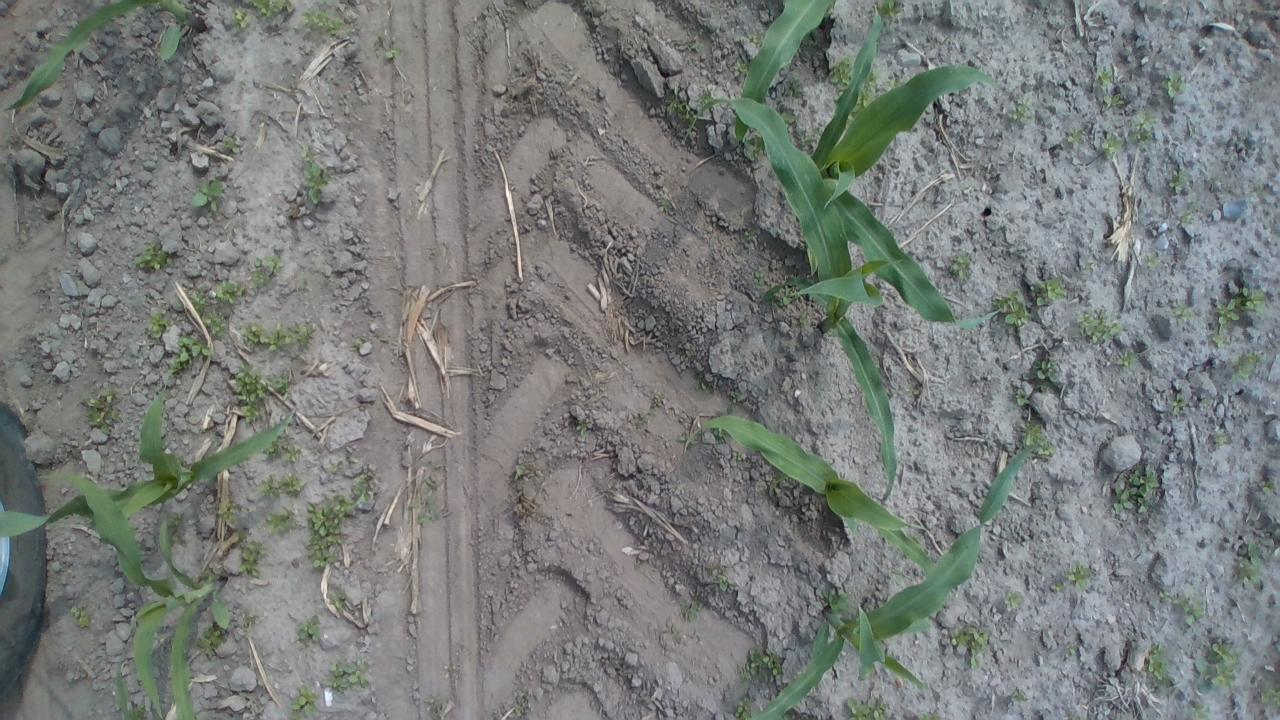Maize: (698, 93, 896, 507), (756, 449, 1026, 720), (812, 3, 1001, 336), (40, 466, 228, 719), (0, 380, 293, 540), (684, 414, 937, 576), (2, 0, 205, 111), (734, 0, 835, 146)
Weeds: (306, 492, 354, 570), (1210, 286, 1266, 348), (240, 320, 315, 352), (233, 361, 271, 424), (1072, 304, 1126, 344), (84, 382, 125, 434), (1113, 468, 1158, 514), (1195, 642, 1238, 689), (168, 334, 212, 378), (302, 142, 332, 206), (1160, 588, 1206, 626), (736, 648, 784, 684), (950, 624, 988, 668), (991, 288, 1030, 330), (666, 87, 698, 136), (322, 660, 370, 692), (255, 474, 304, 503), (301, 8, 351, 36), (1021, 420, 1055, 459), (190, 176, 226, 212), (132, 241, 173, 272), (415, 478, 440, 528), (238, 530, 264, 578), (830, 55, 854, 105), (1029, 278, 1070, 306), (1144, 642, 1170, 686), (260, 435, 300, 463), (1032, 356, 1062, 393), (288, 685, 319, 720), (1231, 350, 1264, 382), (846, 694, 886, 720), (250, 256, 282, 288), (1238, 543, 1262, 585), (243, 0, 296, 18), (1130, 110, 1158, 144), (856, 66, 879, 106), (1066, 560, 1093, 594), (197, 624, 224, 656), (1100, 130, 1126, 160), (212, 278, 242, 304), (295, 614, 322, 642), (764, 288, 801, 308), (1009, 95, 1034, 124), (146, 310, 170, 340), (742, 134, 767, 161), (948, 253, 972, 280), (202, 310, 225, 338), (680, 598, 704, 624), (676, 428, 704, 449), (264, 510, 288, 534), (271, 368, 289, 400), (352, 472, 370, 503), (1162, 72, 1184, 97), (828, 592, 850, 616), (230, 7, 250, 32), (70, 606, 92, 628), (1174, 302, 1198, 322), (874, 0, 902, 17), (1180, 200, 1198, 226), (1169, 168, 1188, 192), (1260, 686, 1280, 708), (734, 696, 752, 720), (1092, 68, 1112, 88), (190, 290, 208, 312), (700, 93, 721, 111), (222, 134, 240, 155), (1003, 591, 1025, 608), (1102, 93, 1126, 108), (717, 574, 736, 592), (328, 591, 346, 610), (223, 500, 241, 519), (1192, 702, 1210, 720), (784, 78, 802, 96), (712, 426, 731, 443), (1116, 350, 1136, 366), (844, 106, 858, 128), (1014, 389, 1032, 406), (1216, 430, 1232, 448), (1066, 128, 1084, 144), (779, 110, 795, 128), (384, 47, 402, 62), (696, 382, 716, 395), (658, 190, 671, 210), (576, 420, 592, 436), (905, 384, 922, 399), (752, 271, 766, 289), (734, 62, 750, 77), (170, 512, 185, 528), (133, 703, 147, 720), (1171, 399, 1185, 415), (1082, 257, 1096, 273), (1012, 690, 1028, 704), (1144, 253, 1160, 266), (774, 472, 786, 489), (644, 406, 660, 418), (749, 32, 765, 44), (513, 464, 525, 480), (1262, 482, 1277, 494), (198, 570, 213, 582), (918, 712, 939, 720), (729, 389, 742, 401), (799, 312, 808, 328), (348, 456, 364, 465), (1066, 642, 1076, 656), (742, 230, 754, 241), (242, 614, 253, 626), (885, 79, 896, 91), (734, 451, 744, 463), (780, 710, 792, 720), (1052, 580, 1064, 590), (800, 136, 812, 146), (827, 326, 839, 336), (824, 6, 834, 18), (910, 534, 921, 544), (851, 255, 858, 270), (894, 568, 902, 578), (175, 302, 184, 310), (193, 708, 199, 720)
